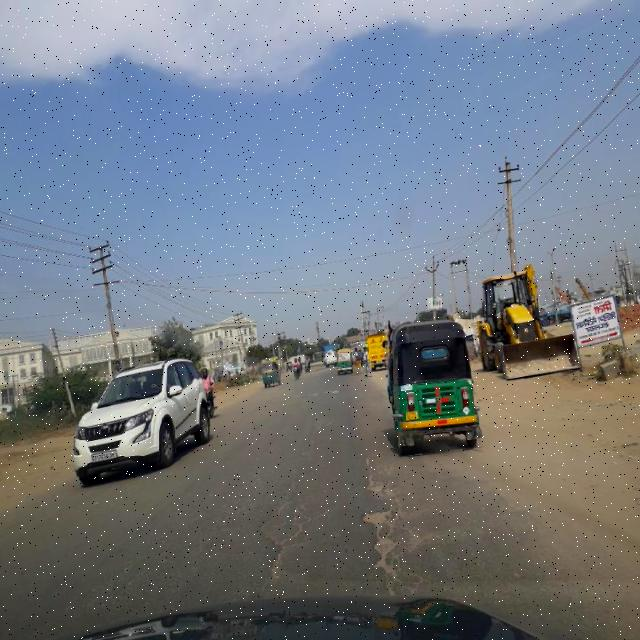D20: (360, 464, 427, 585), (257, 484, 329, 582)
D40: (362, 462, 428, 583)
